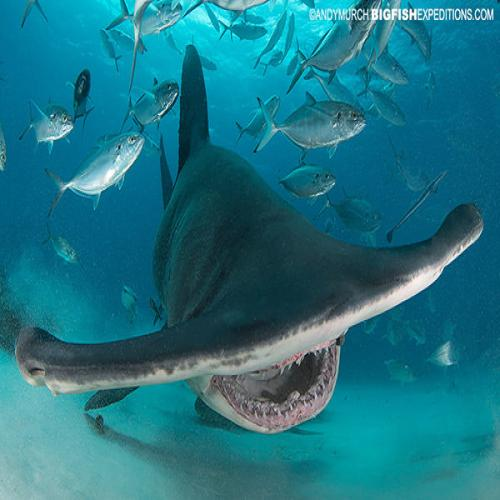shark-endangered: (14, 40, 485, 434)
